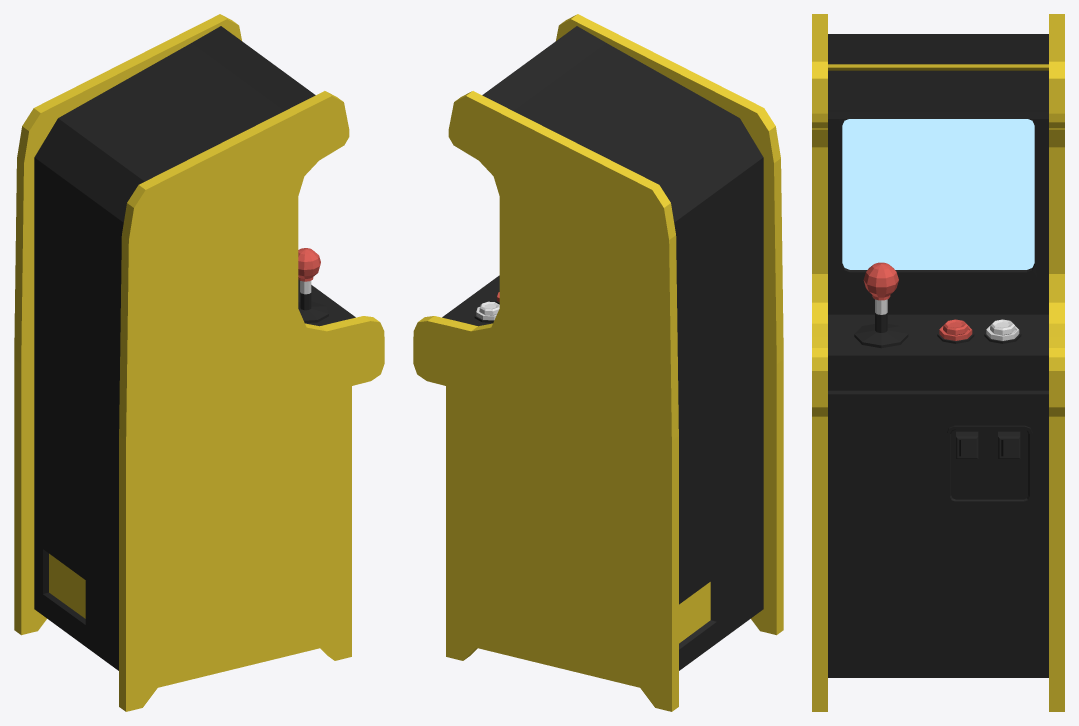
File: arcade-machine-BDICwpBN.glb
3 views of the same model, side by side, from view 1: azimuth 30°, elevation 25°; view 2: azimuth 150°, elevation 25°; view 3: azimuth 270°, elevation 25° (orthographic). The views are drawn at different scales.
Visible parts, largest first — view 1: ArcadeMachine_Cube.002; view 2: ArcadeMachine_Cube.002; view 3: ArcadeMachine_Cube.002, ScreenFlicker.
Part boxes in pixels (box(x1,y1,x2,y2)): ArcadeMachine_Cube.002: box(14, 14, 384, 711); ArcadeMachine_Cube.002: box(413, 14, 783, 711); ArcadeMachine_Cube.002: box(812, 14, 1064, 711); ScreenFlicker: box(842, 119, 1034, 269).
Bounding box in the file's own units: 1.24 × 2.59 × 0.927.
